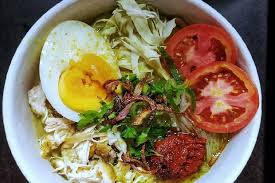soto: (12, 1, 260, 183)
